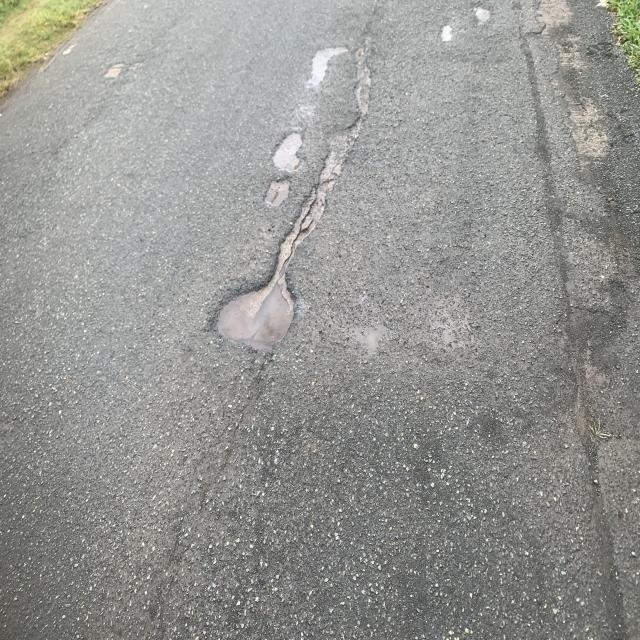pothole: (208, 280, 300, 357)
